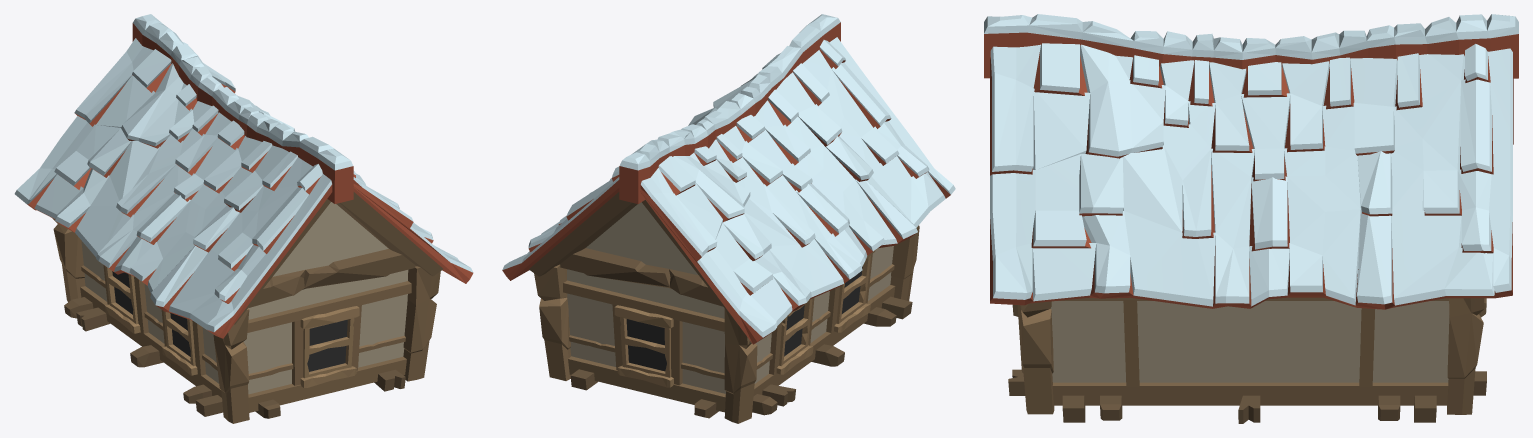
The model's file is SM_Bld_House_RoomTop_02_Snow.glb.
3 renders of one model, left to right at view 1: azimuth 30°, elevation 25°; view 2: azimuth 150°, elevation 25°; view 3: azimuth 270°, elevation 25°, orthographic. The views are drawn at different scales.
Parts seen in each view (by area): view 1: SM_Bld_House_RoomTop_02_Snow; view 2: SM_Bld_House_RoomTop_02_Snow; view 3: SM_Bld_House_RoomTop_02_Snow.
Boxes of the visible parts, x1=… form: SM_Bld_House_RoomTop_02_Snow: x1=14, y1=14, x2=473, y2=423; SM_Bld_House_RoomTop_02_Snow: x1=502, y1=14, x2=955, y2=423; SM_Bld_House_RoomTop_02_Snow: x1=984, y1=14, x2=1518, y2=423.
Bounding box in the file's own units: 5.43 × 4.74 × 6.86.
Materials: 1 (1 with a texture image).
